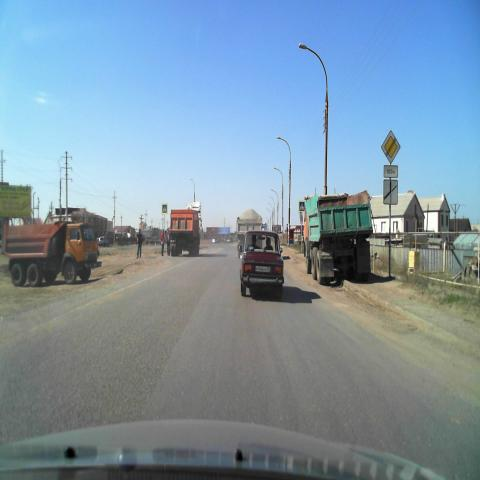8_13: (383, 179, 398, 205)
